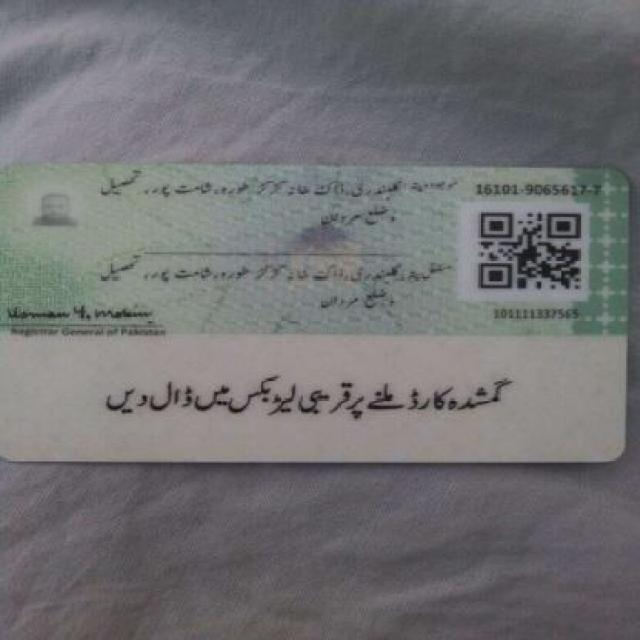Back: (5, 158, 628, 472)
